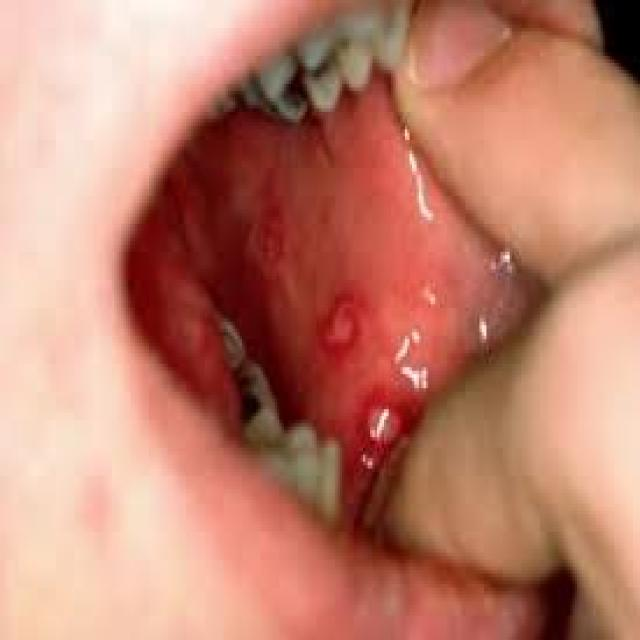processing_area: (202, 66, 469, 515)
ulcer-detection: (226, 173, 417, 514)
